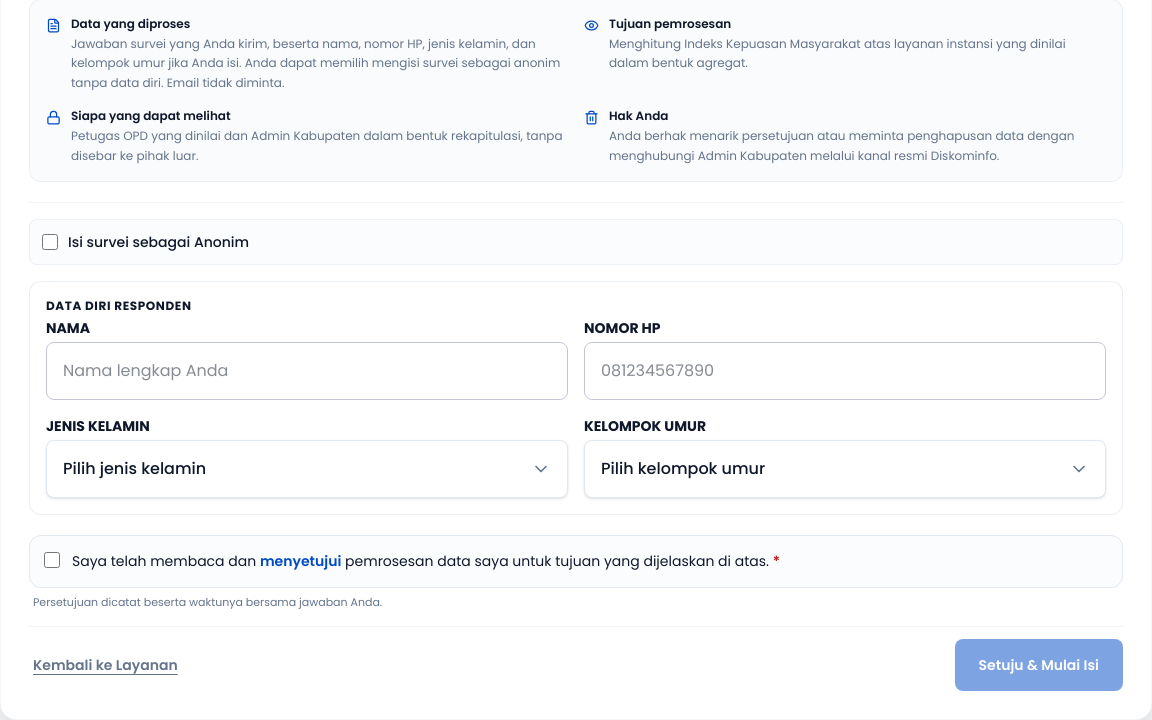
GerbangPengisianPublik › tombol lanjut mati sampai kotak setuju dicentang
(page scrolled)
Expected: the button "Setuju & Mulai Isi" is disabled, [955, 639, 1123, 691]
Click the checkbox labelled "menyetujui" at (52, 560), box [44, 552, 60, 568]
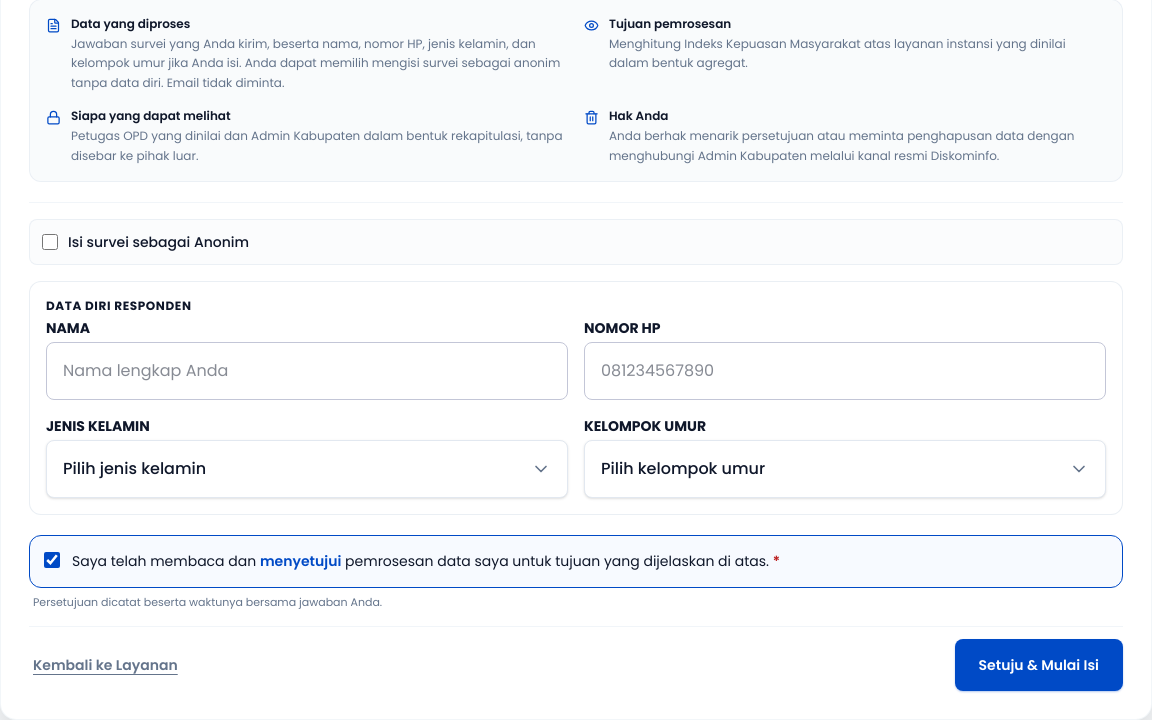
Expected: the button "Setuju & Mulai Isi" is enabled, [955, 639, 1123, 691]
